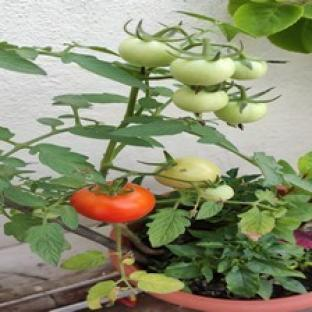Tomato: (70, 183, 155, 222), (155, 156, 221, 189), (170, 58, 235, 86), (119, 37, 175, 66), (173, 87, 228, 112), (214, 102, 267, 125), (232, 59, 267, 79), (201, 184, 233, 201)
